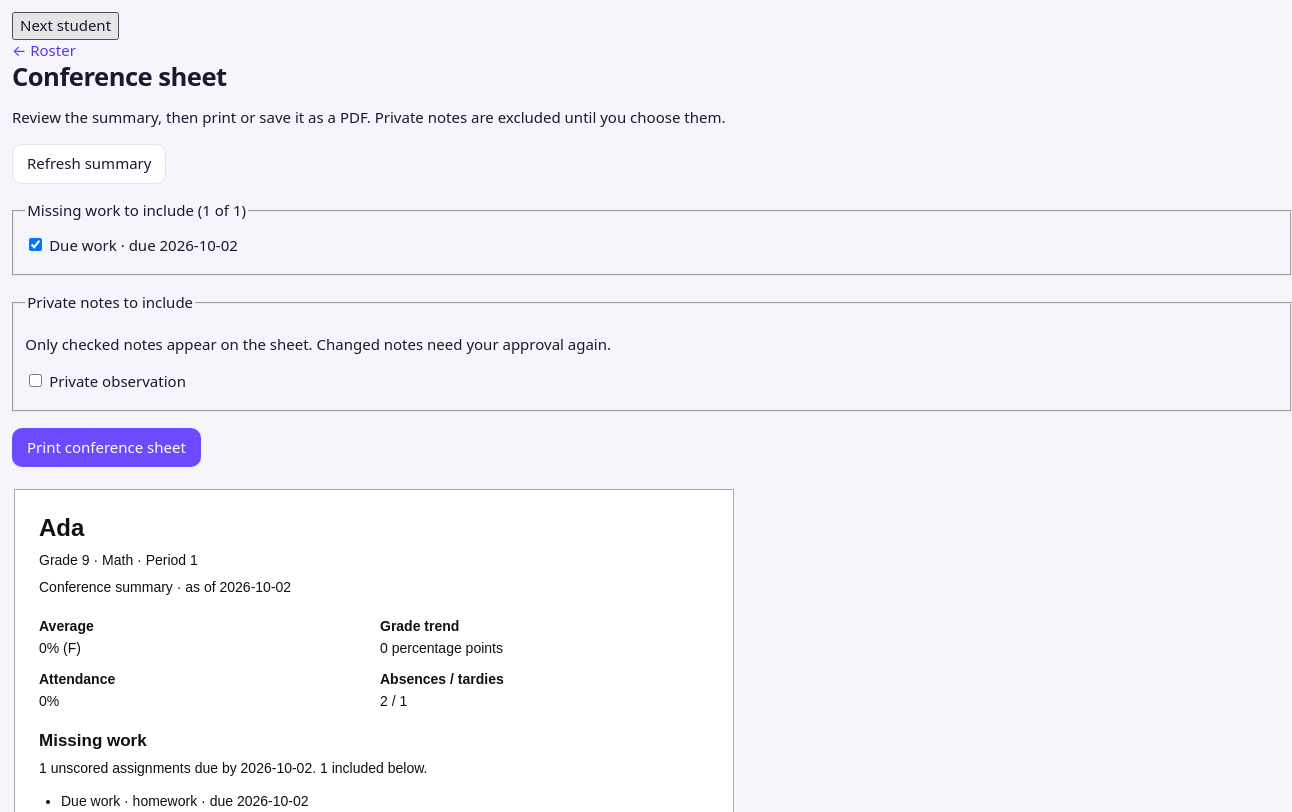
hides cached record after failed refresh
Check: the button "Print conference sheet" is enabled, box x1=12 y1=428 x2=201 y2=468
Click the button "Refresh summary" at (89, 164), box x1=12 y1=144 x2=166 y2=184
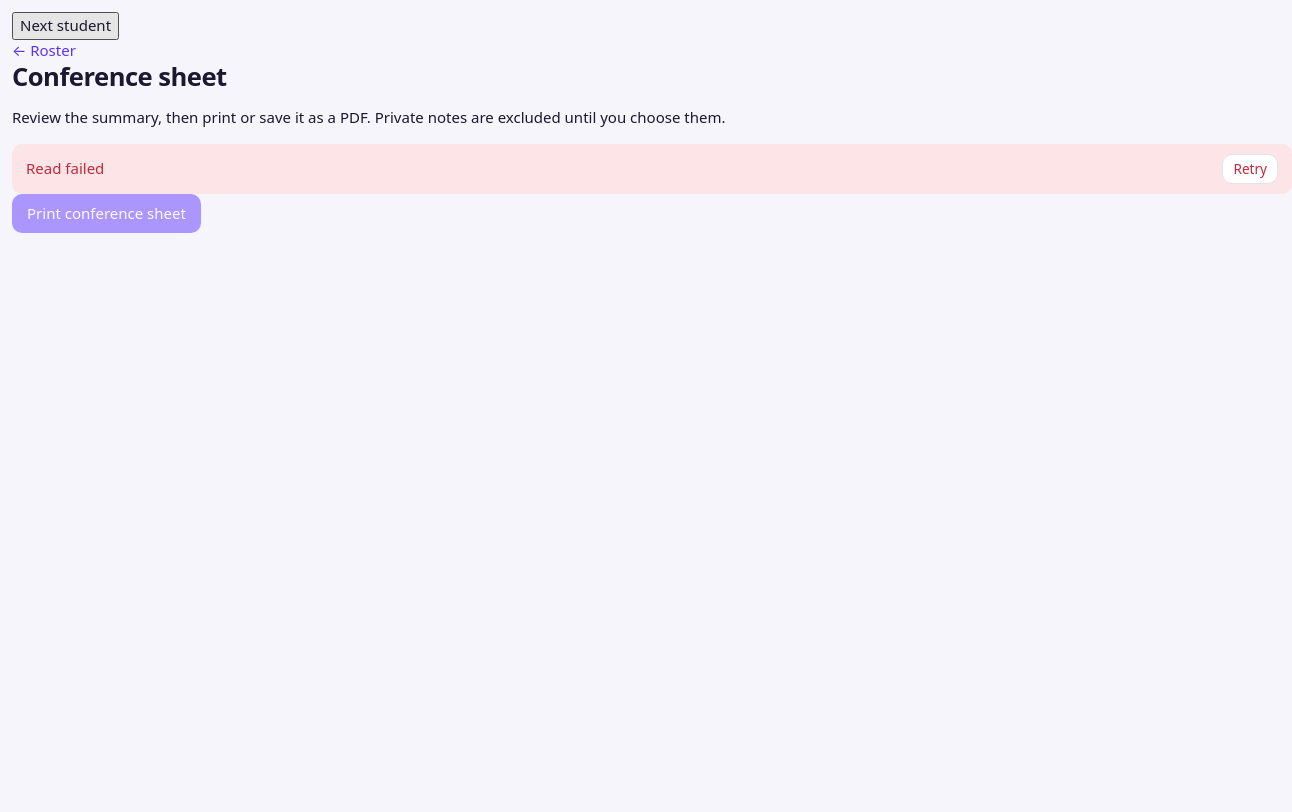
Check: the text "Read failed" is shown, box x1=26 y1=158 x2=104 y2=180
Check: the button "Print conference sheet" is disabled, box x1=12 y1=194 x2=201 y2=234
